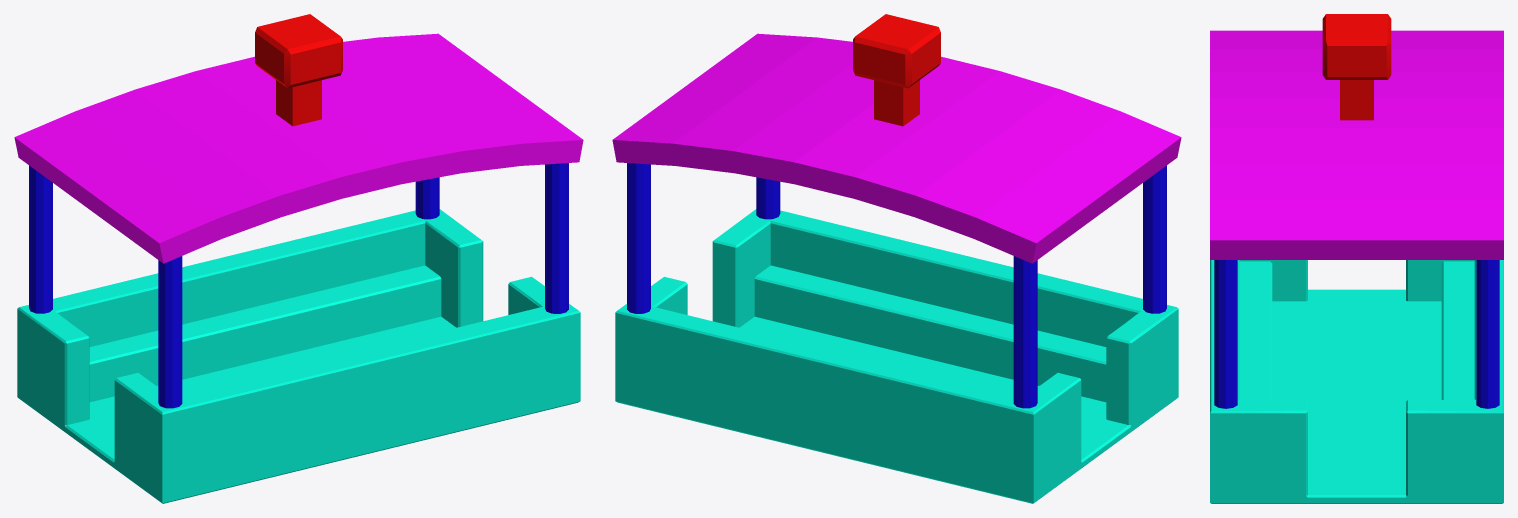
The model's file is carrito.FBX.
The picture shows the model from 3 angles, left to right: view 1: azimuth 30°, elevation 25°; view 2: azimuth 150°, elevation 25°; view 3: azimuth 270°, elevation 25°; orthographic projection.
Parts seen in each view (by area): view 1: Box013, Box012, Box011, Cylinder025, Cylinder026, Cylinder027, Cylinder028; view 2: Box013, Box012, Box011, Cylinder027, Cylinder028, Cylinder025, Cylinder026; view 3: Box012, Box013, Box011, Cylinder028, Cylinder026.
Boxes of the visible parts, left/top/right/bottom form: Box013: left=17, top=209, right=580, bottom=503; Box012: left=14, top=33, right=583, bottom=263; Box011: left=255, top=14, right=342, bottom=126; Cylinder025: left=158, top=256, right=182, bottom=408; Cylinder026: left=545, top=163, right=568, bottom=313; Cylinder027: left=29, top=165, right=52, bottom=313; Cylinder028: left=415, top=177, right=439, bottom=219; Box013: left=615, top=209, right=1178, bottom=503; Box012: left=612, top=33, right=1181, bottom=263; Box011: left=853, top=14, right=940, bottom=126; Cylinder027: left=1013, top=256, right=1037, bottom=408; Cylinder028: left=627, top=163, right=650, bottom=313; Cylinder025: left=1143, top=165, right=1166, bottom=313; Cylinder026: left=756, top=177, right=780, bottom=219; Box012: left=1210, top=30, right=1503, bottom=259; Box013: left=1210, top=260, right=1503, bottom=503; Box011: left=1322, top=14, right=1391, bottom=120; Cylinder028: left=1476, top=260, right=1499, bottom=408; Cylinder026: left=1214, top=260, right=1237, bottom=408.
Bounding box in the file's own units: 101 × 84.3 × 60.
